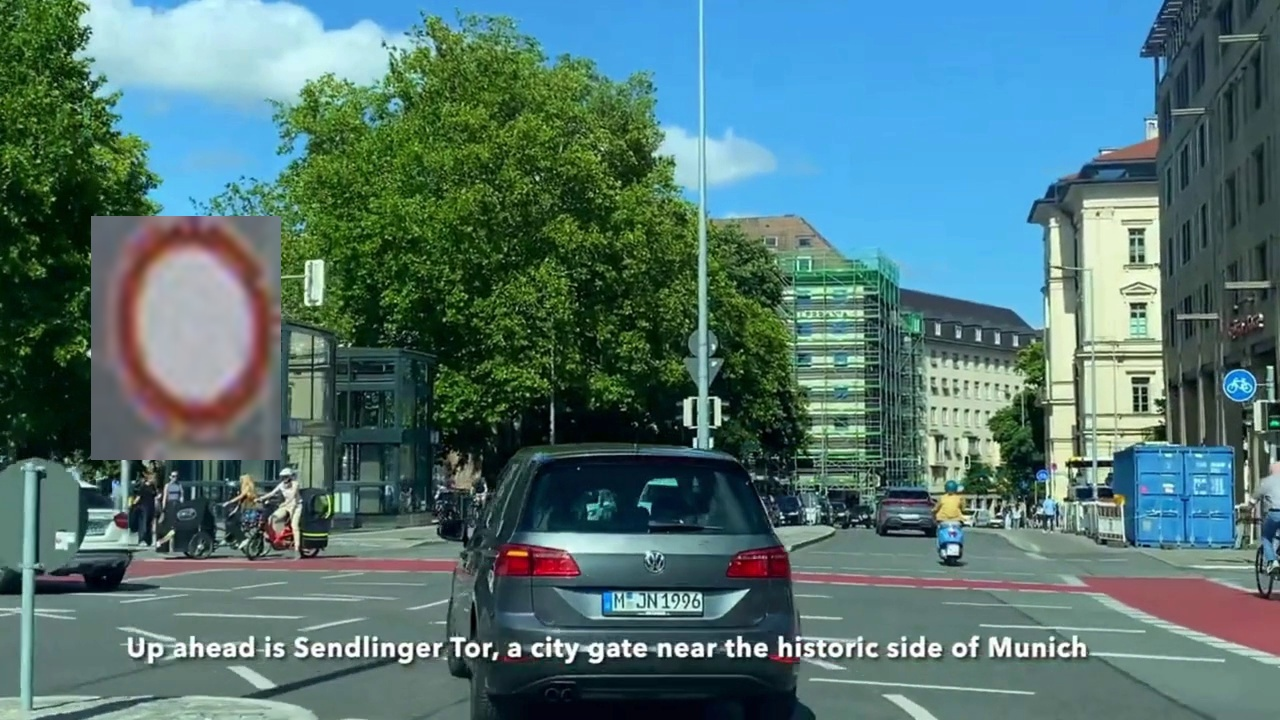No vehicles: (91, 216, 281, 460)
